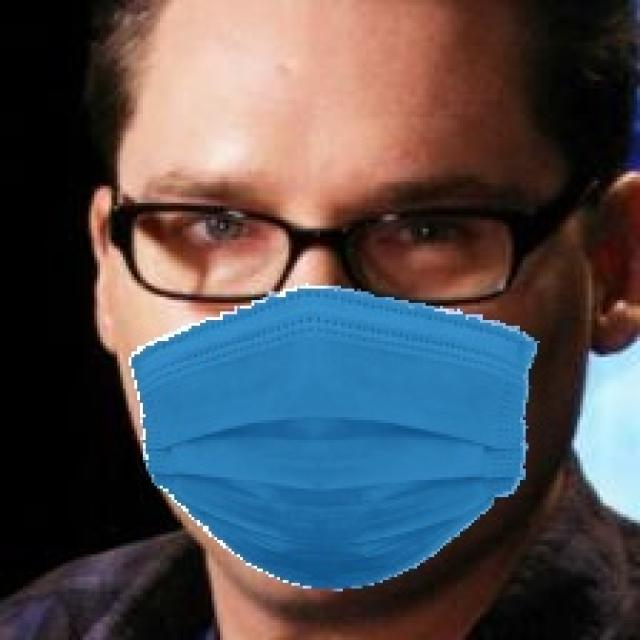mask: (75, 266, 608, 600)
